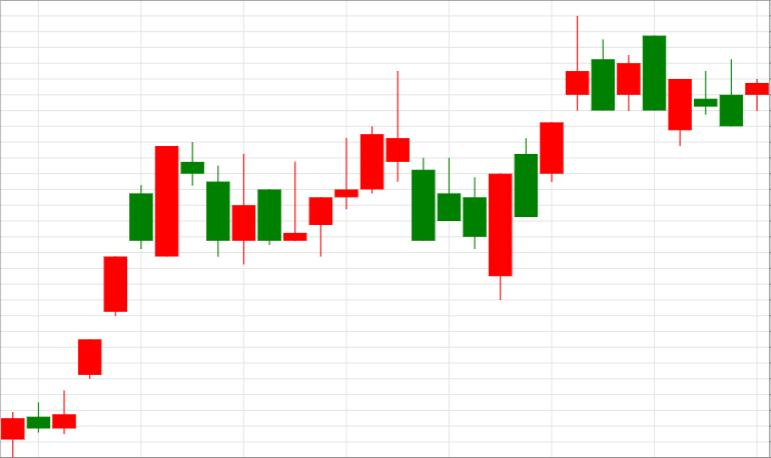shooting_star_fall: (489, 16, 589, 301), (283, 71, 409, 257)
